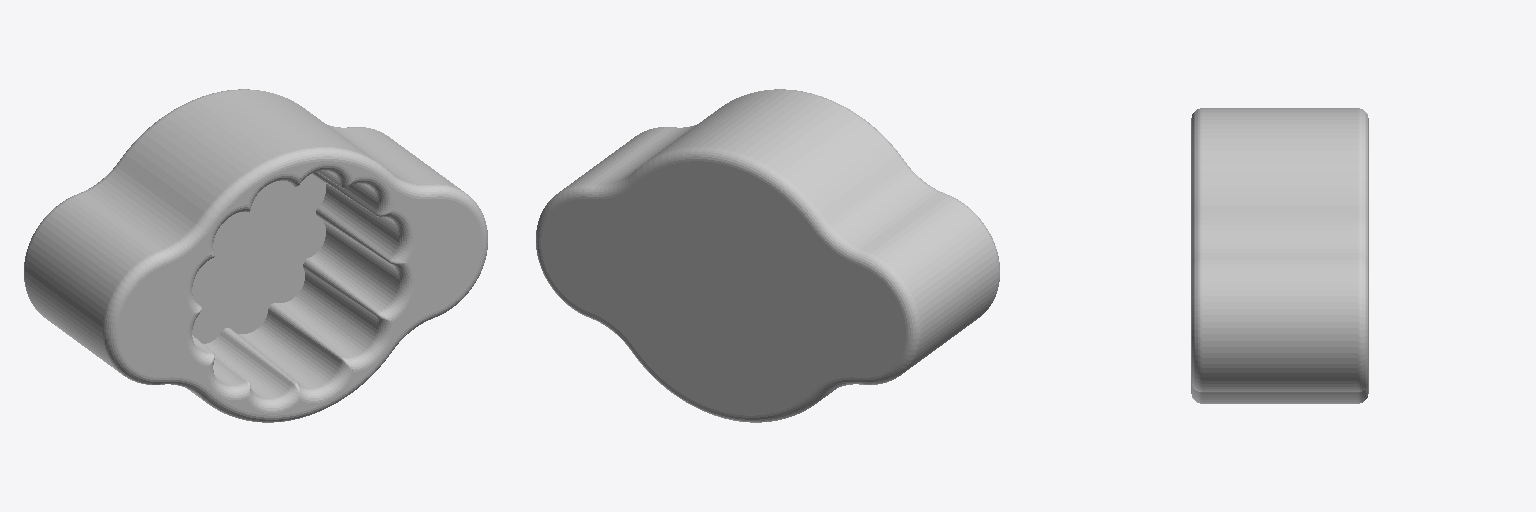
File: Thingy.obj
3 views of the same model, side by side, from view 1: azimuth 30°, elevation 25°; view 2: azimuth 150°, elevation 25°; view 3: azimuth 270°, elevation 25° (orthographic).
Visible parts, largest first — view 1: thingy; view 2: thingy; view 3: thingy.
Part boxes in pixels (left/top/right/bottom): thingy: left=24, top=89, right=487, bottom=422; thingy: left=536, top=89, right=999, bottom=422; thingy: left=1191, top=108, right=1368, bottom=403.
Size of the model in its own units: 29.99 by 19.99 by 12.